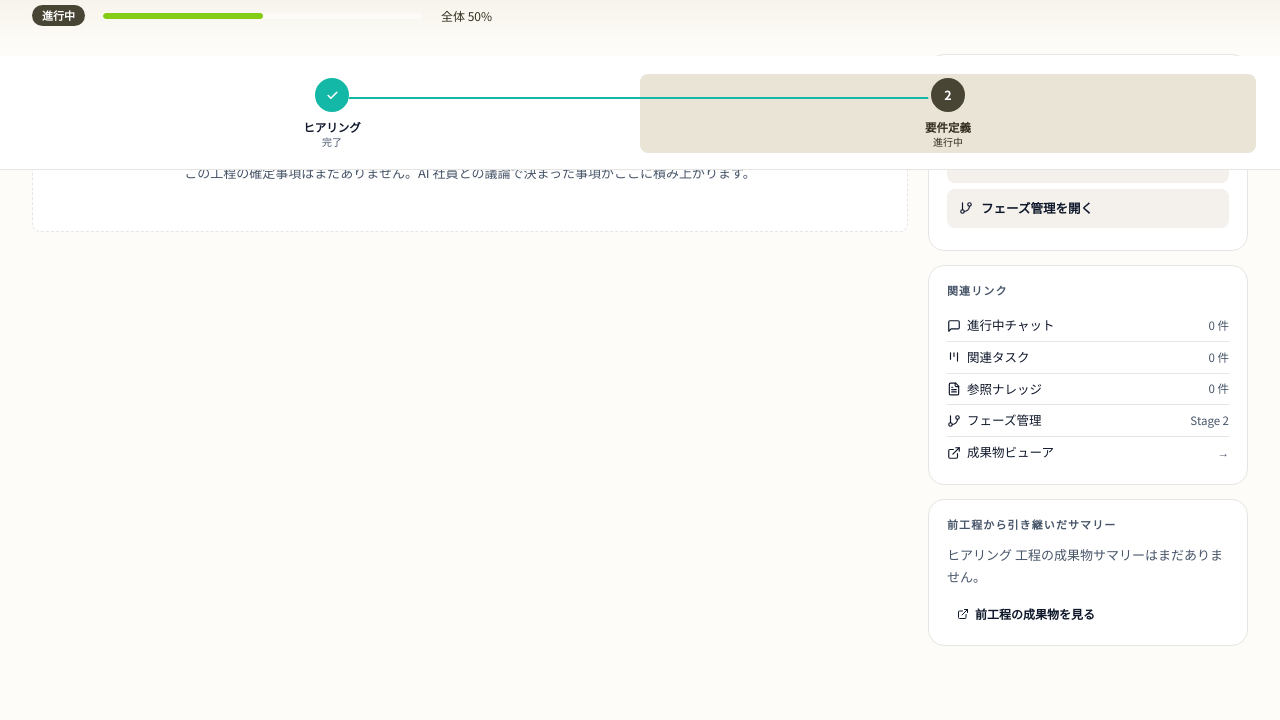
S-F01 成果物は選択工程で分かれる (GAP-302 / 通し J46-01) › phase_id の無い成果物は工程名 ↔ stage の対応で絞られ、どの工程でも同じ一覧にならない
The image size is (1280, 720).
(page scrolled)
Check: the text "ヒアリング要約" is not shown
// 前工程 (ヒアリング) に切り替えると入れ替わる
What coordinates should you click on to do the following:
click the button "前工程の成果物を見る"
I would click on:
 (1026, 614)
Its box is [947,599,1105,629].
(page scrolled)
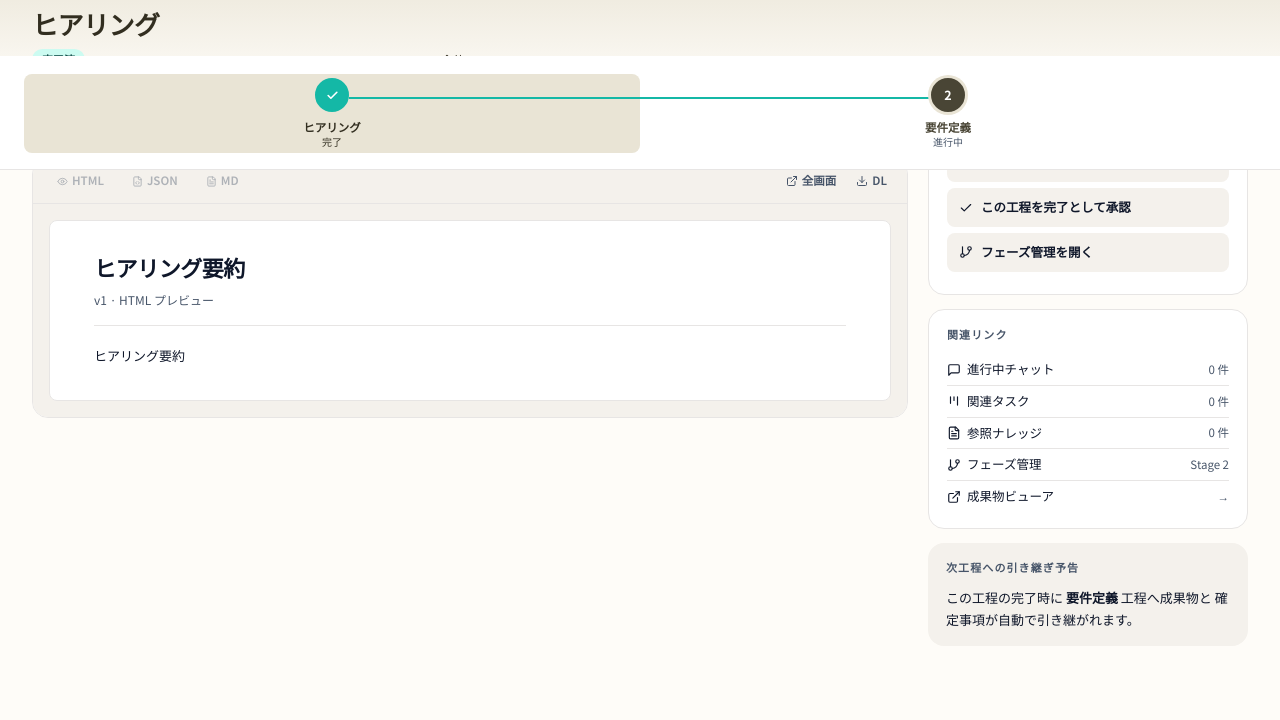
Check: the heading "ヒアリング要約" is shown, box [94,251,245,283]
